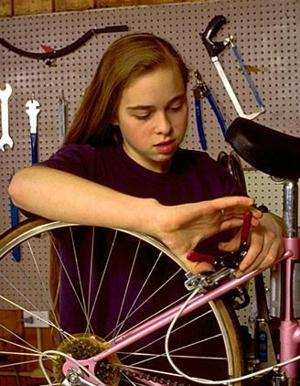person: (7, 32, 288, 383)
